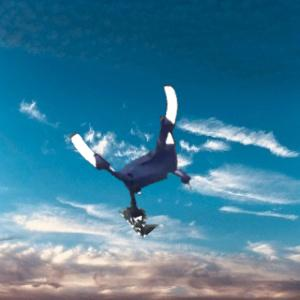drone: (85, 88, 212, 215)
